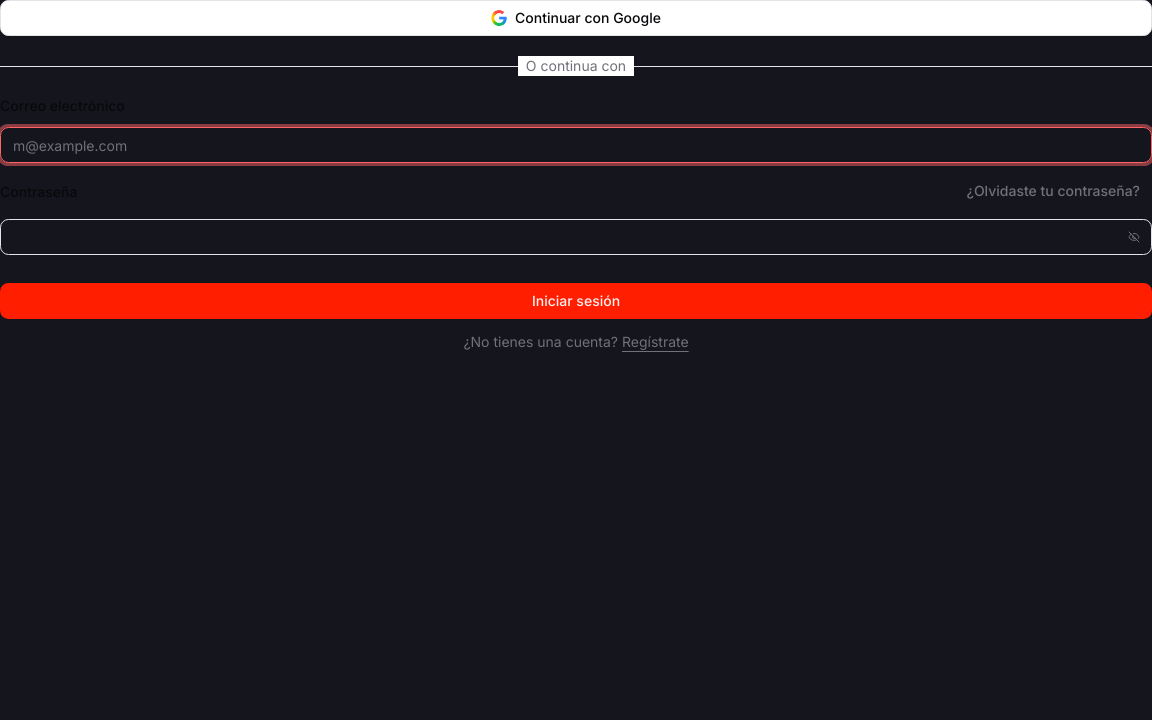
Test: FormLogin › should open the password reset dialog when clicking "¿Olvidaste tu contraseña?"
Click the button "¿Olvidaste tu contraseña?" at point(1053, 191), box [954, 175, 1151, 207]
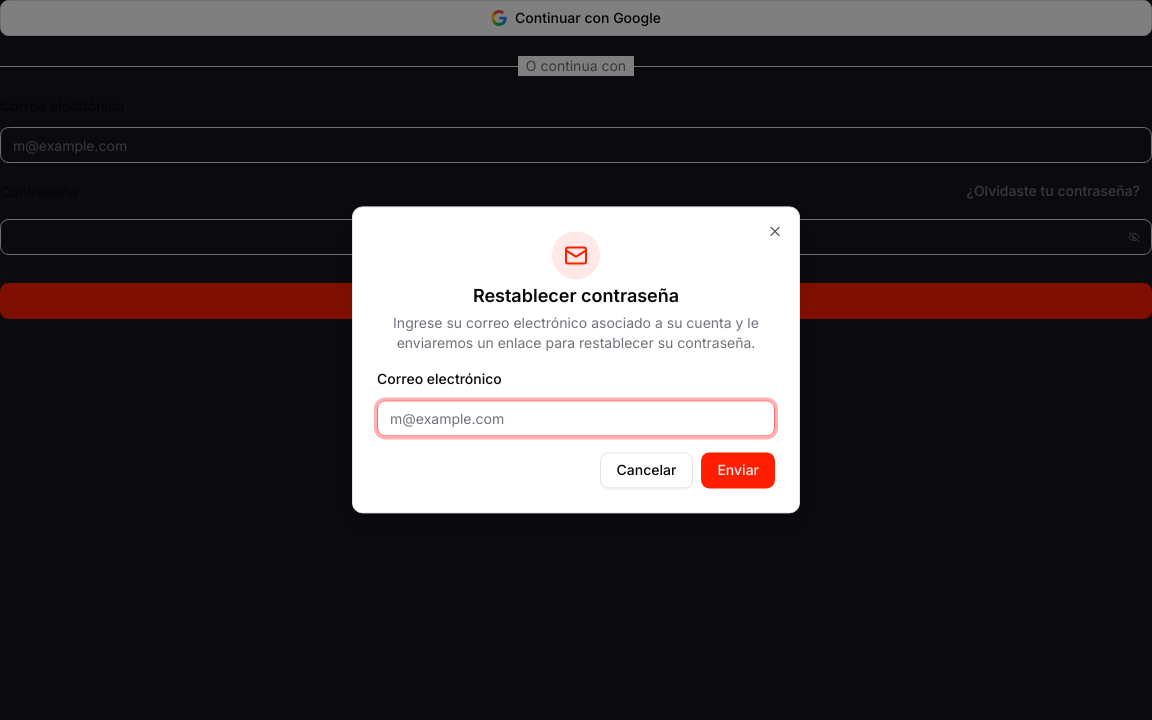
Expected: the dialog is shown, [352, 206, 800, 514]
